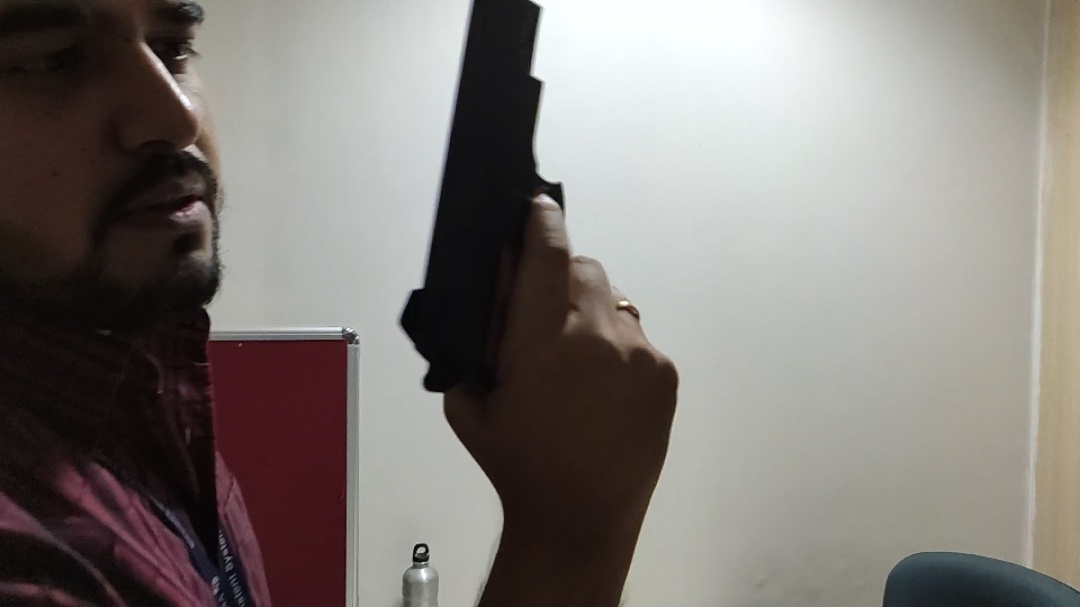gun: (379, 1, 602, 404)
